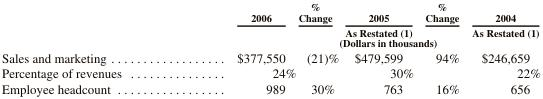table: (0, 0, 539, 95)
table column: (0, 0, 178, 95), (178, 0, 296, 95), (341, 0, 418, 95), (465, 0, 539, 95), (418, 0, 465, 95), (296, 0, 341, 95)
table column header: (0, 0, 539, 49)
table row: (0, 0, 539, 37), (0, 49, 539, 65), (0, 65, 539, 80), (0, 80, 539, 95), (0, 37, 539, 49)
table spanning cell: (178, 37, 539, 49)
